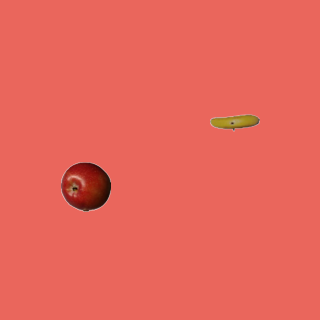Apple Braeburn: (60, 161, 110, 211)
Banana: (209, 97, 259, 147)
